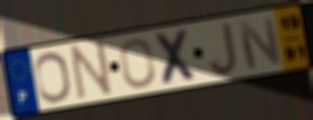J: (208, 19, 239, 78)
N: (69, 38, 115, 103), (235, 15, 284, 72)
O: (33, 49, 74, 104), (118, 36, 158, 90)
X: (151, 27, 202, 88)
